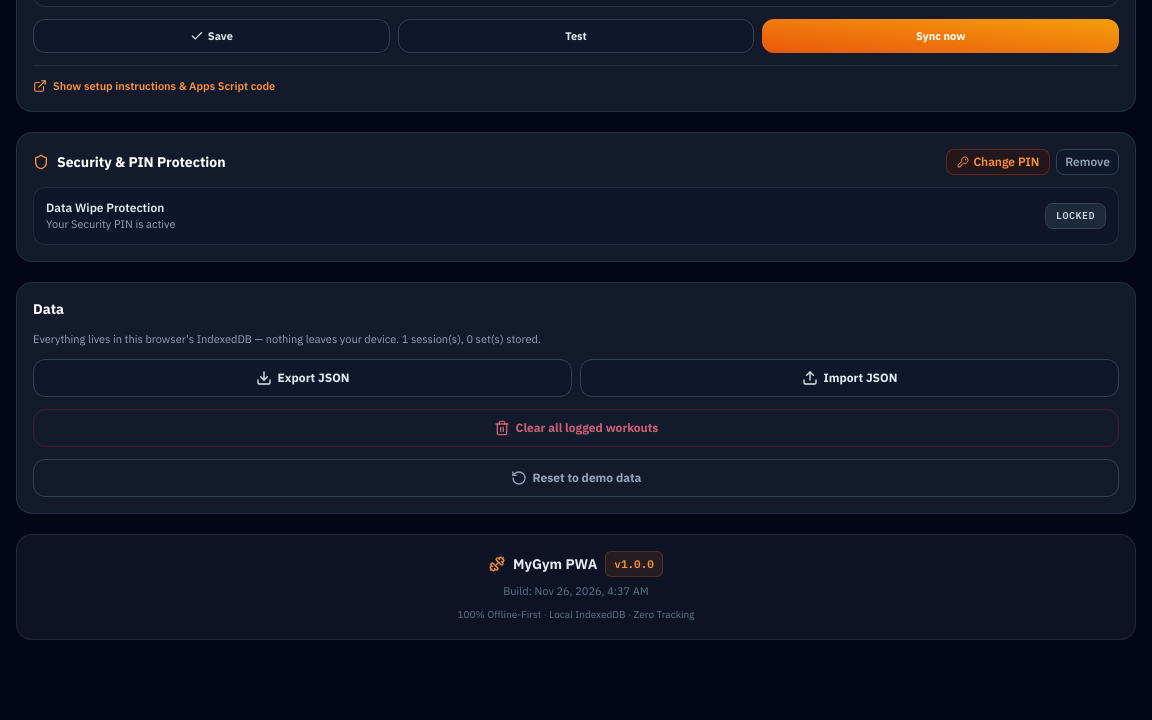
Test case: Security PIN & Data Protection › UI: Destructive Action Protection › rejects incorrect PIN when clearing logs and preserves workouts
(page scrolled)
Click the button "Clear all logged workouts" at (576, 428), box left=33, top=409, right=1119, bottom=447
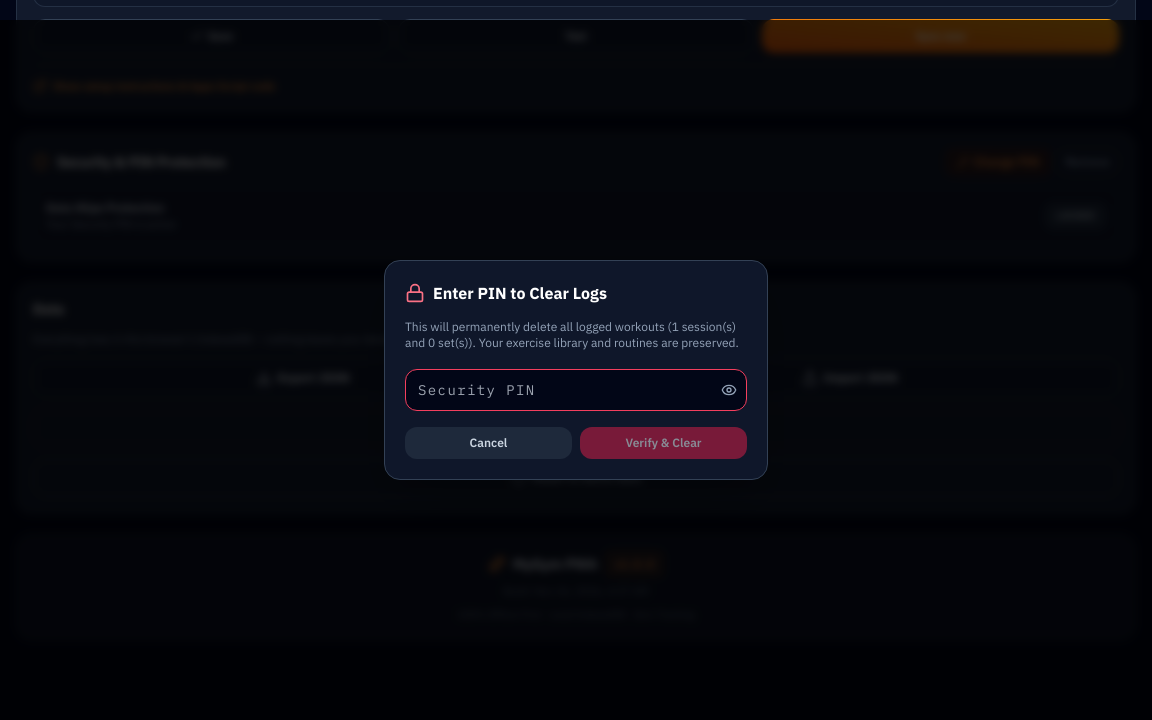
Check: the heading "Enter PIN to Clear Logs" is shown, box left=433, top=281, right=607, bottom=305
Type "wrong-pin" into the password field with placeholder "Security PIN" at (576, 390), box left=405, top=369, right=747, bottom=411
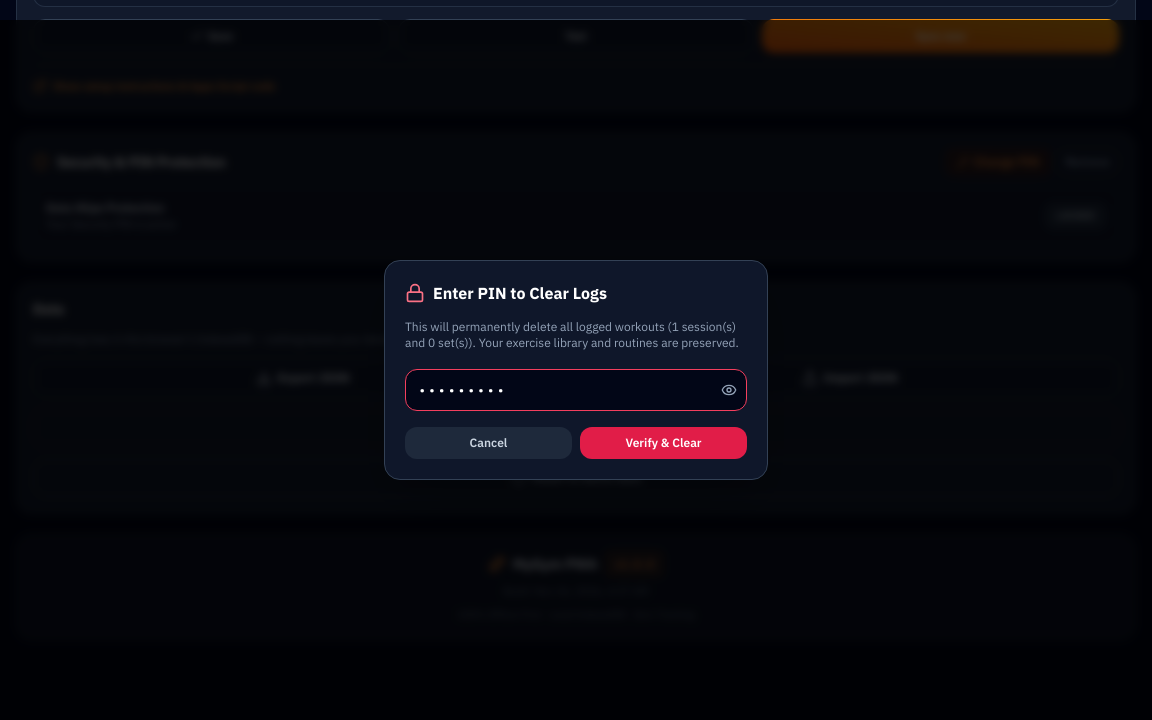
Click the button "Verify & Clear" at (664, 443), box left=580, top=427, right=747, bottom=459
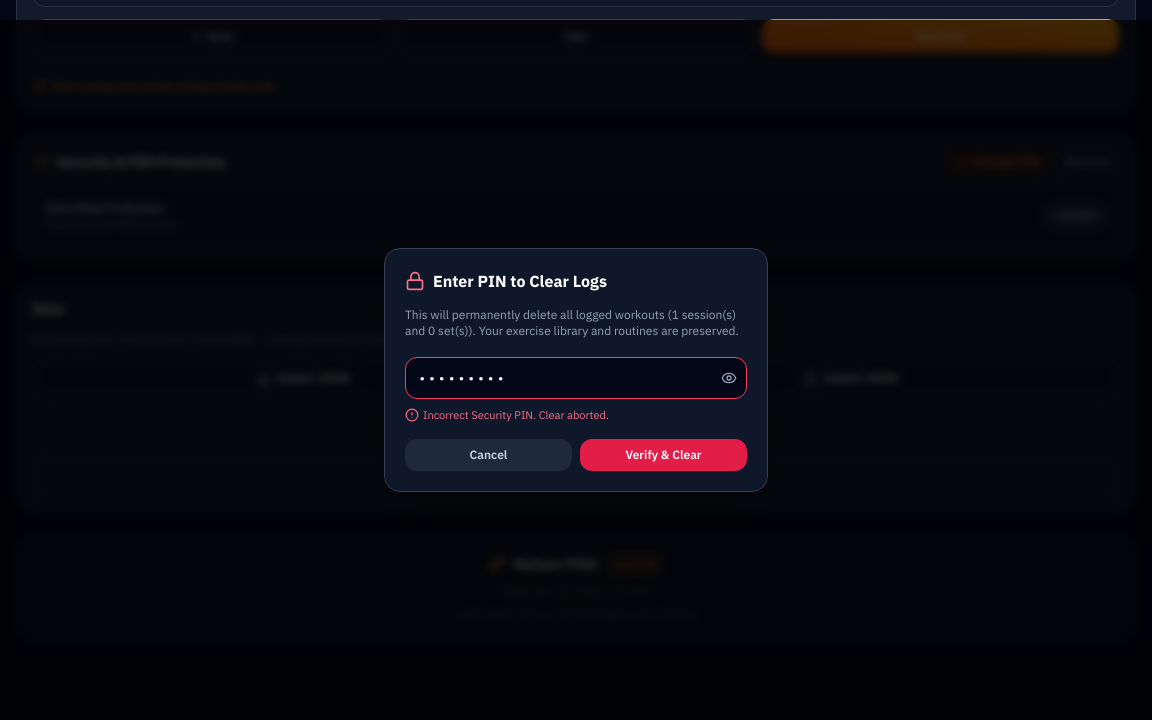
Check: the text "Incorrect Security PIN. Clear aborted." is shown, box left=423, top=407, right=609, bottom=423
